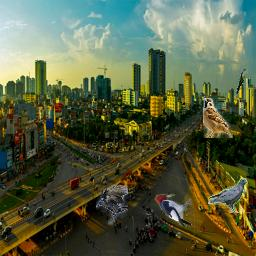Crow: (208, 178, 248, 213), (96, 185, 128, 225)
Cuckoo: (236, 69, 246, 94)
Sparrow: (203, 98, 233, 138)
Woodpecker: (154, 193, 194, 227)
